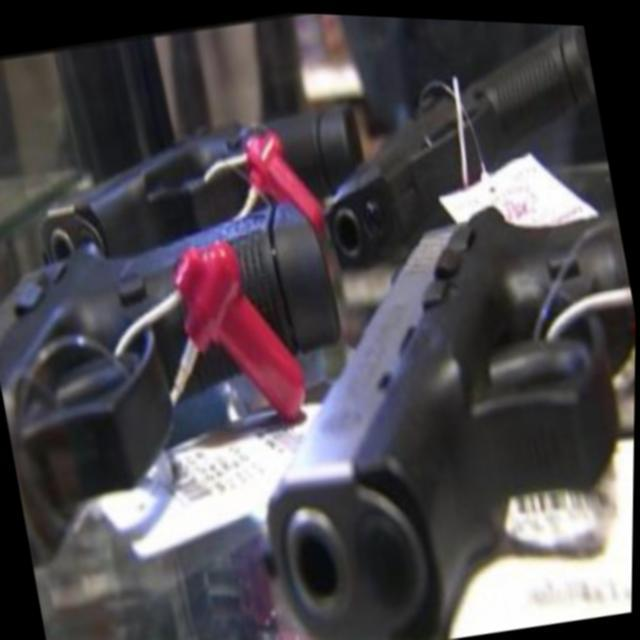weapon: (206, 138, 638, 640), (0, 169, 396, 603), (285, 10, 624, 289)
